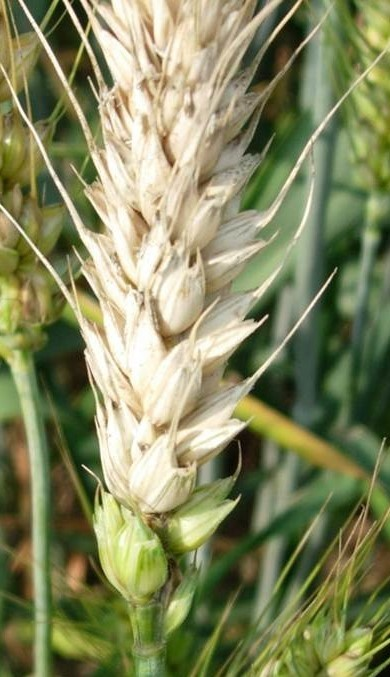Wheat scab: (50, 3, 270, 605)
